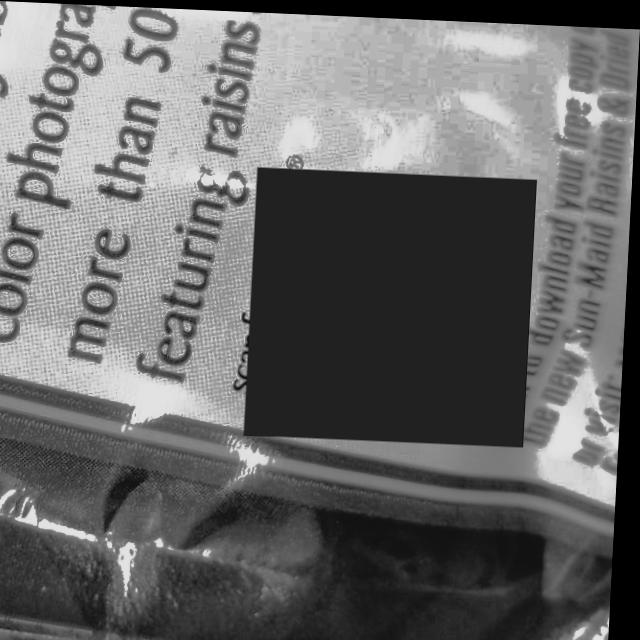qr_code: (249, 164, 538, 441)
